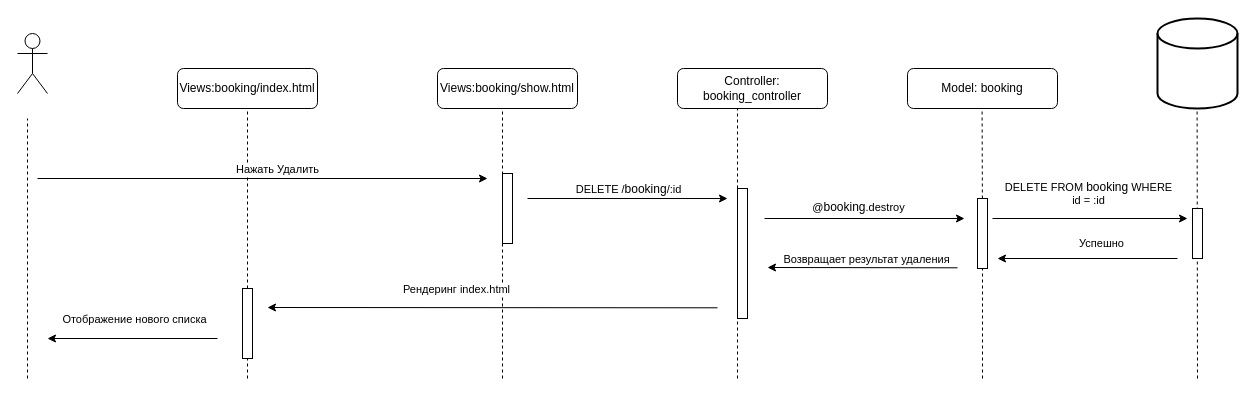
Some shapes in this 1256 by 397 pixel diagram are drawn without their labels. The box of each missing label's shape, as (x1, y1, x2, y2) in pixels:
DB: (1156, 17, 1238, 109)
User: (16, 32, 48, 94)
